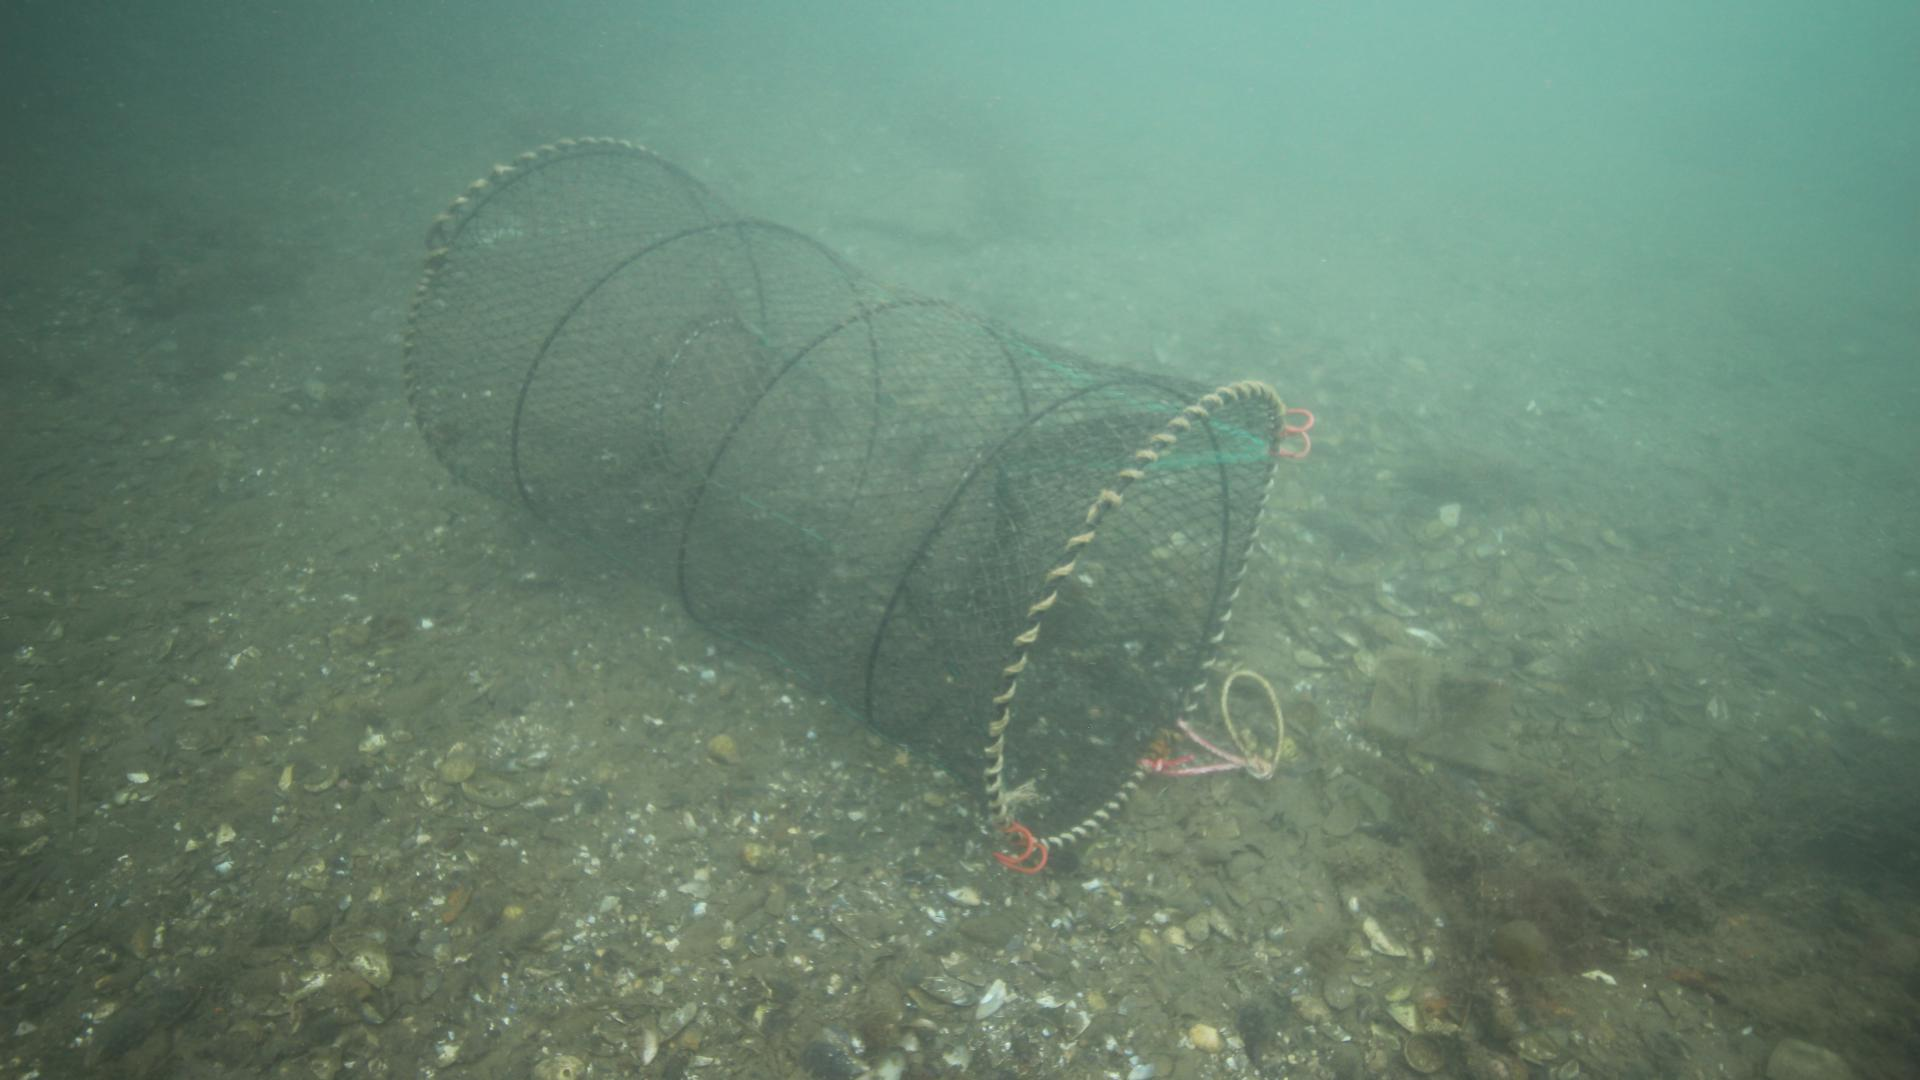bundle of ropes: (1133, 659, 1290, 786)
spring fish trap: (401, 131, 1286, 855)
